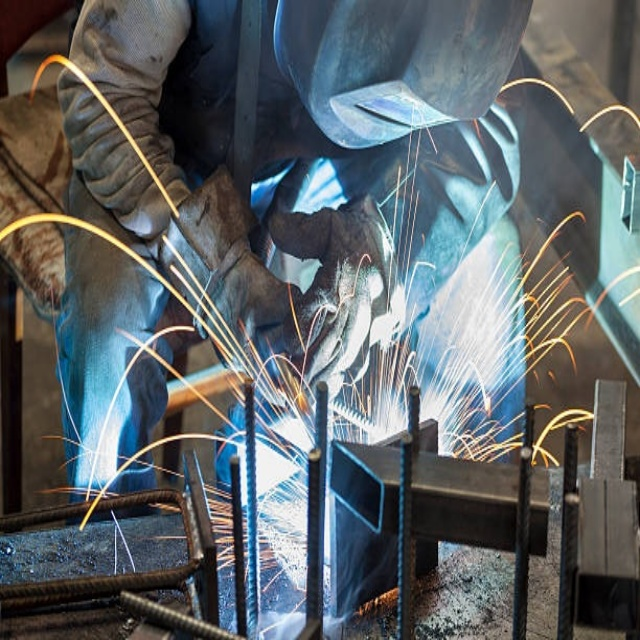Guantes: (266, 190, 407, 416), (164, 155, 303, 383)
